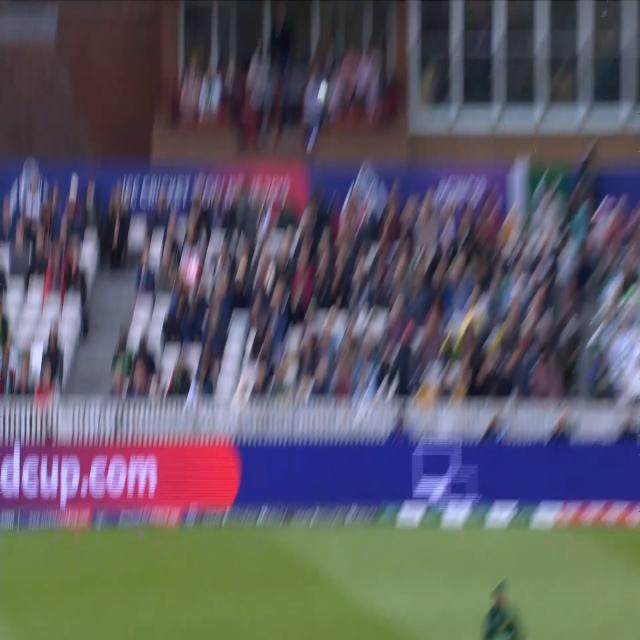ball: (312, 81, 333, 109)
